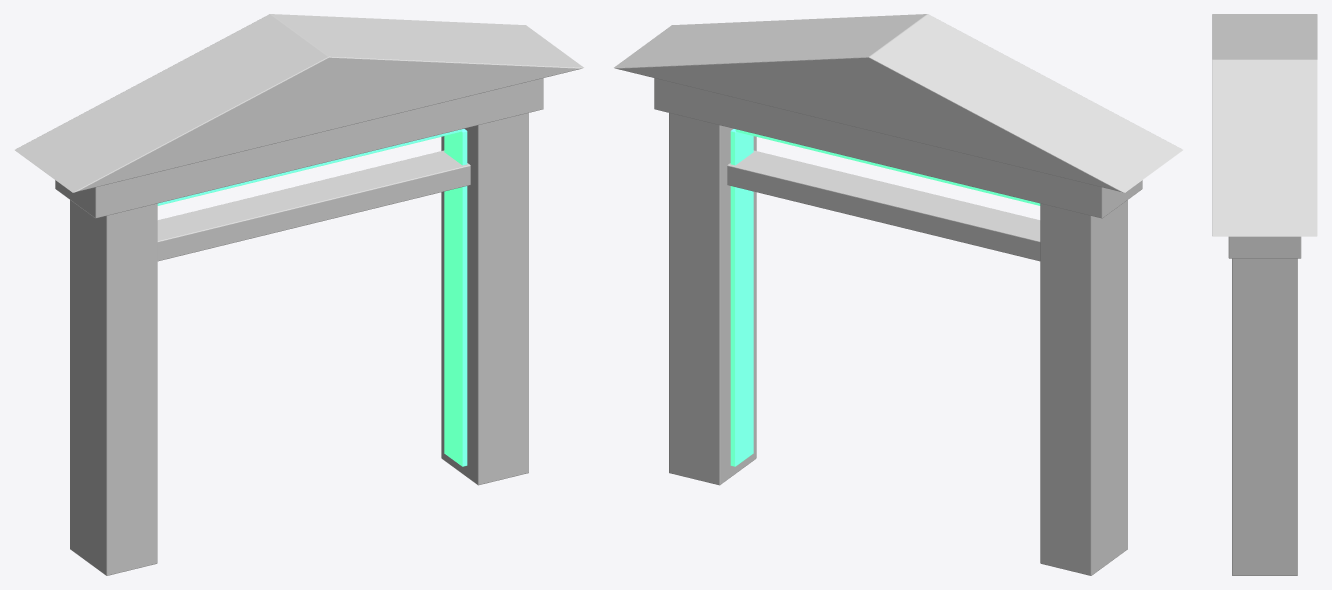
Rendered from china_arch.fbx.
3 views of the same model, side by side, from view 1: azimuth 30°, elevation 25°; view 2: azimuth 150°, elevation 25°; view 3: azimuth 270°, elevation 25° (orthographic). The views are drawn at different scales.
Visible parts, largest first — view 1: china_arch; view 2: china_arch; view 3: china_arch.
Part boxes in pixels (bbox=[...]): china_arch: bbox=[15, 14, 583, 575]; china_arch: bbox=[614, 14, 1182, 575]; china_arch: bbox=[1212, 14, 1317, 575].
Bounding box in the file's own units: 7.99 × 7.1 × 1.6.
